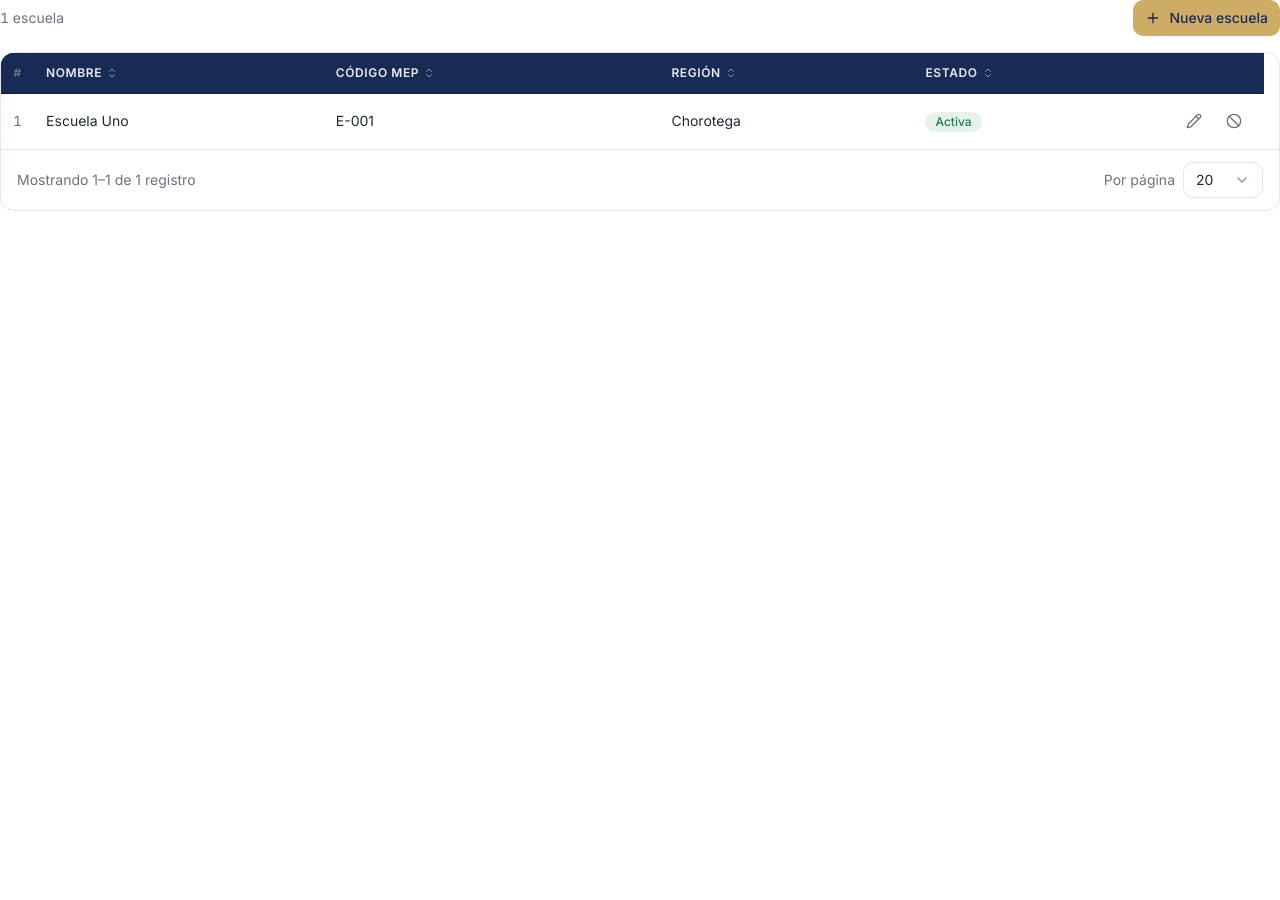
Test: GestionEscuelas › muestra en el modal el error devuelto por la API
Click the button "Nueva escuela". click: (1207, 18)
box: left=1133, top=0, right=1279, bottom=36
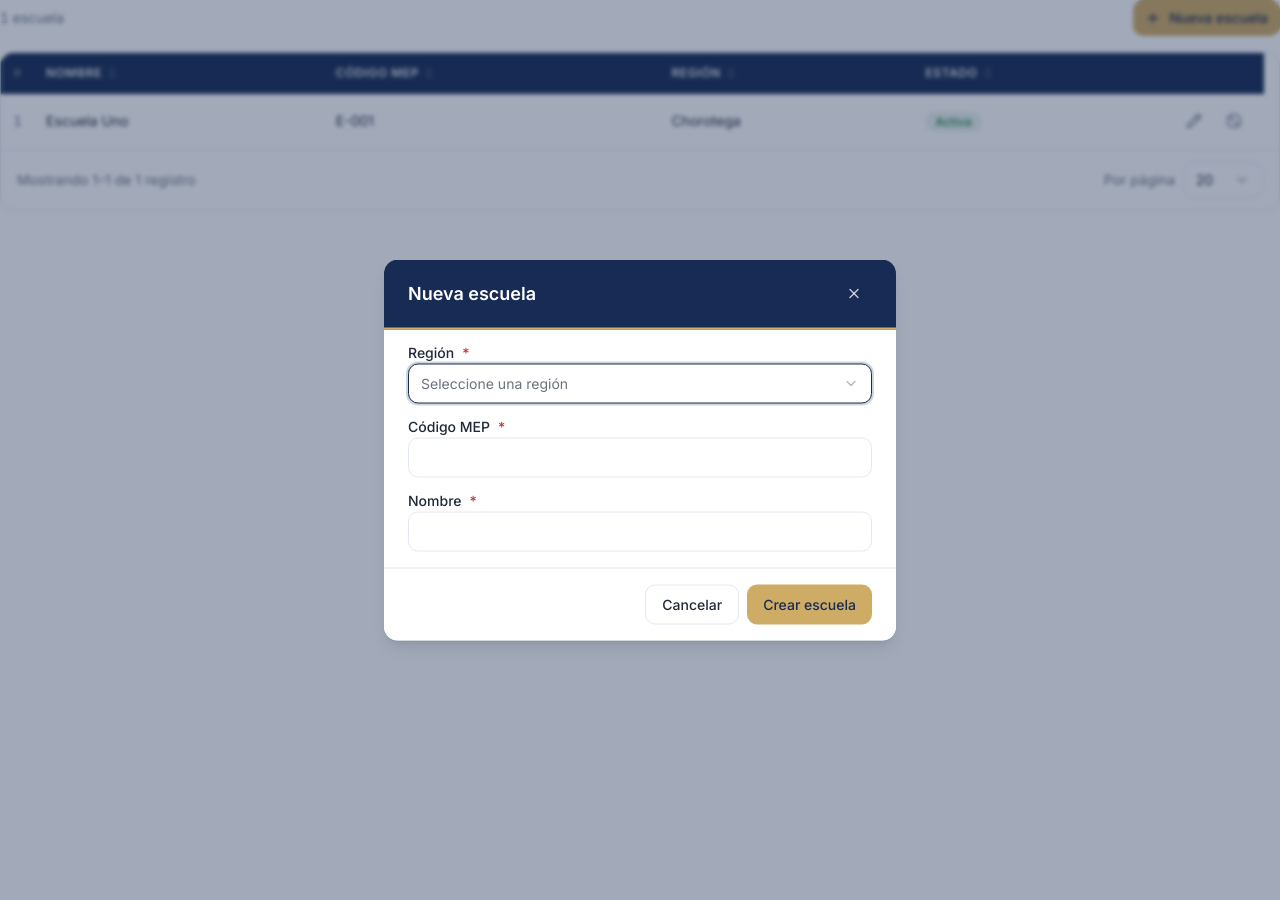
Click the dropdown labelled "Seleccione una región". click: (495, 383)
box: left=408, top=364, right=872, bottom=404
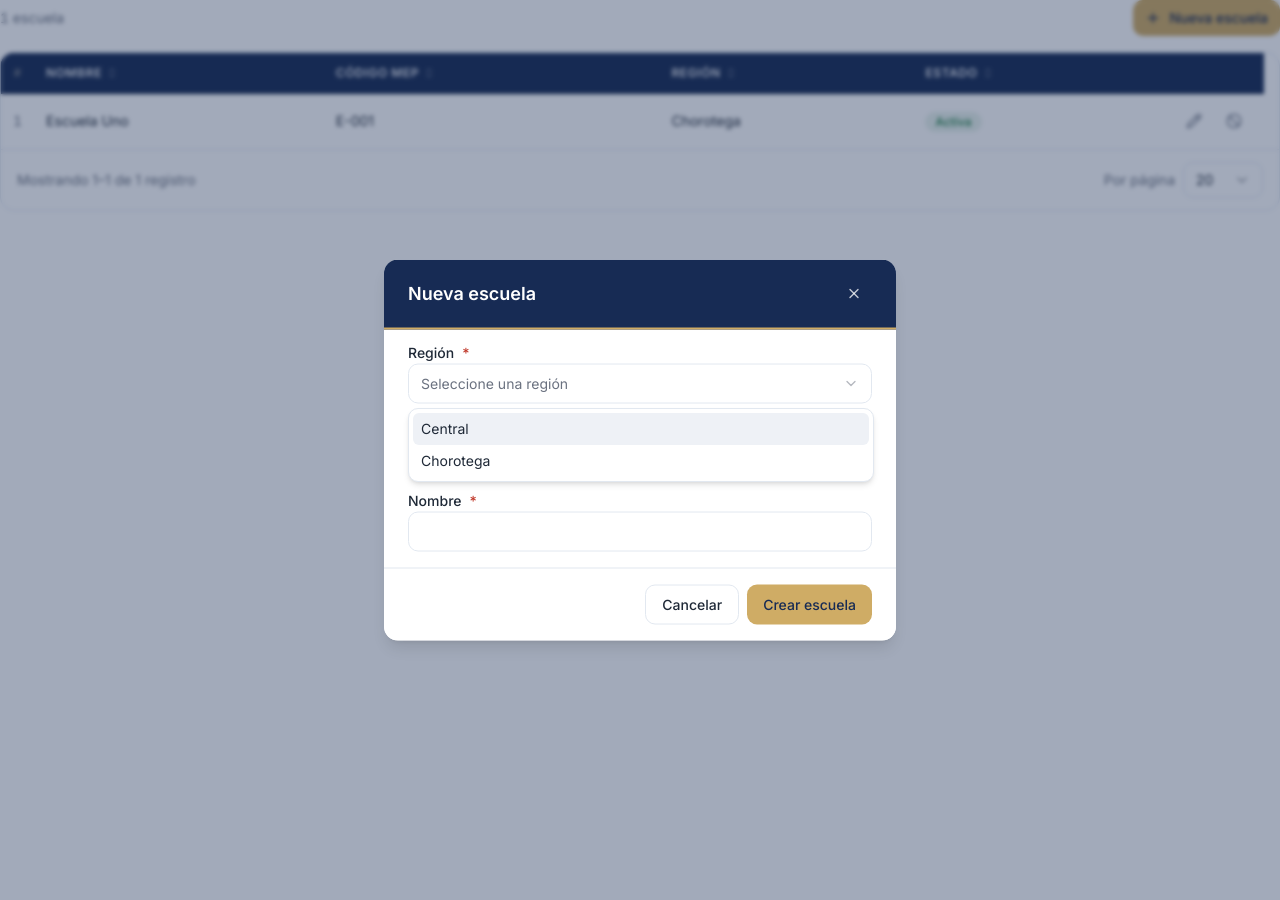
Click the option "Central". click: (445, 428)
box: left=413, top=413, right=869, bottom=445
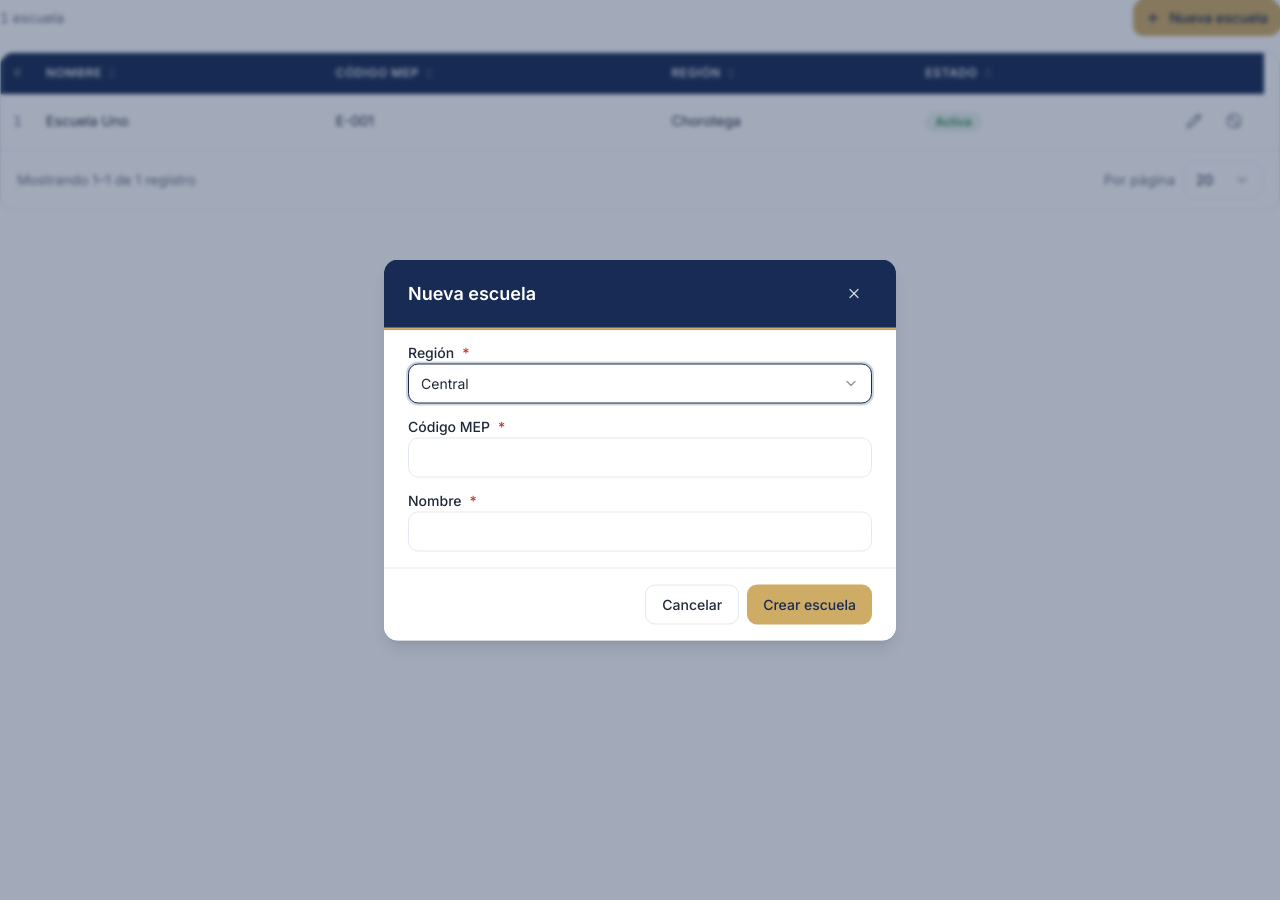
Type "E-001" into the field labelled "Código MEP *". click: (640, 458)
box: left=408, top=438, right=872, bottom=478
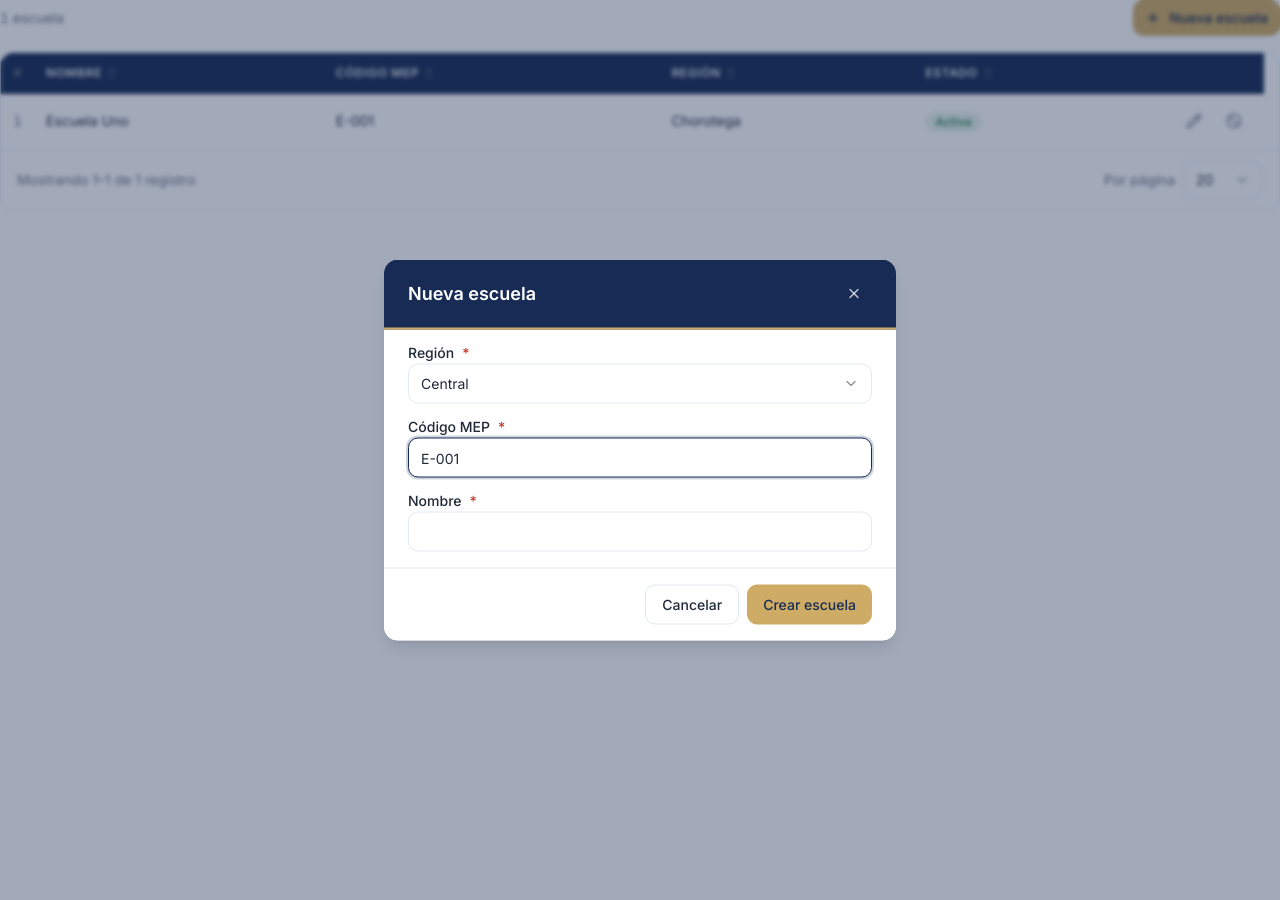
Type "Duplicada" into the field labelled "Nombre *". click: (640, 532)
box: left=408, top=512, right=872, bottom=552
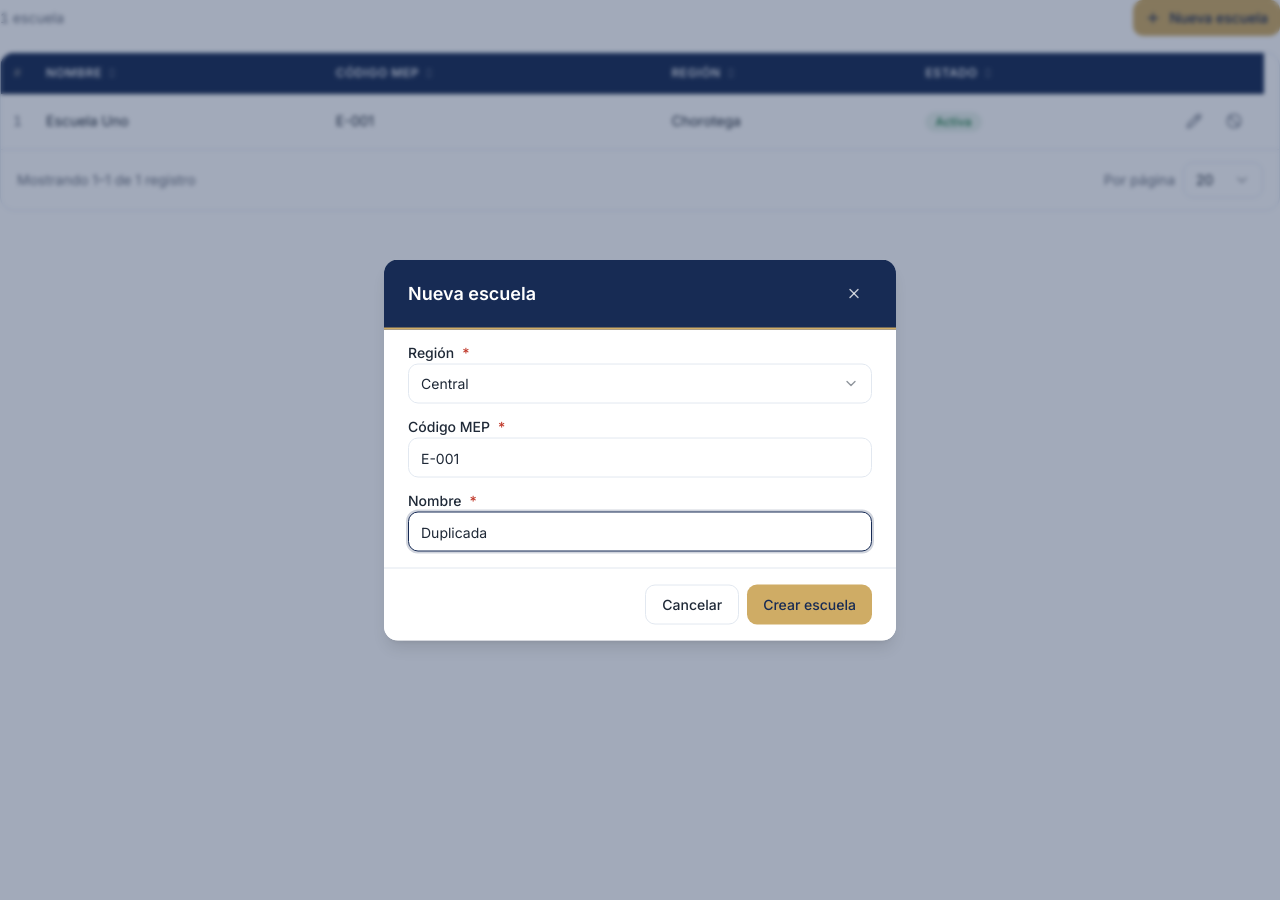
Click the button "Crear escuela". click: (810, 604)
box: left=747, top=584, right=872, bottom=624
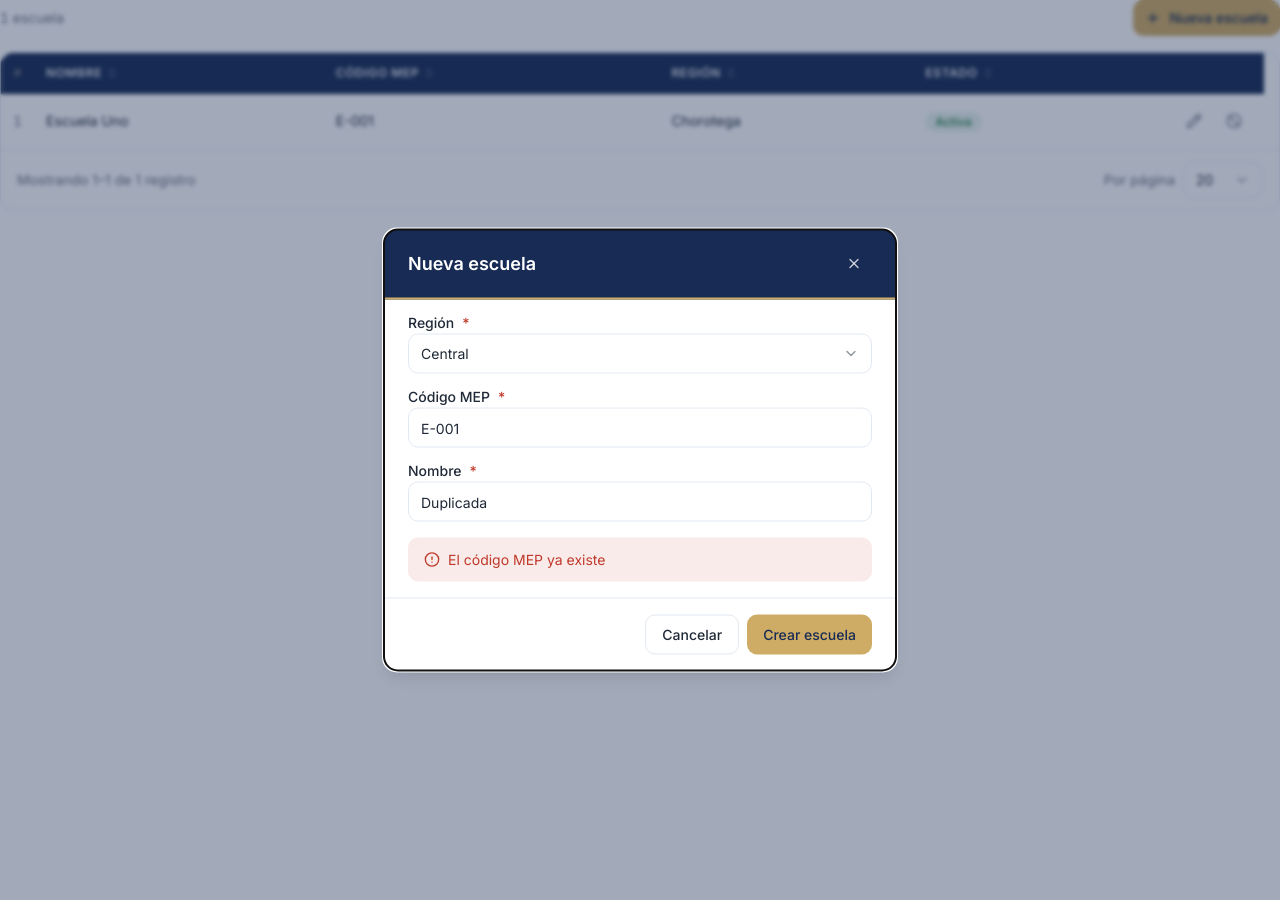
Check: the message reads "El código MEP ya existe", box left=448, top=550, right=605, bottom=568
